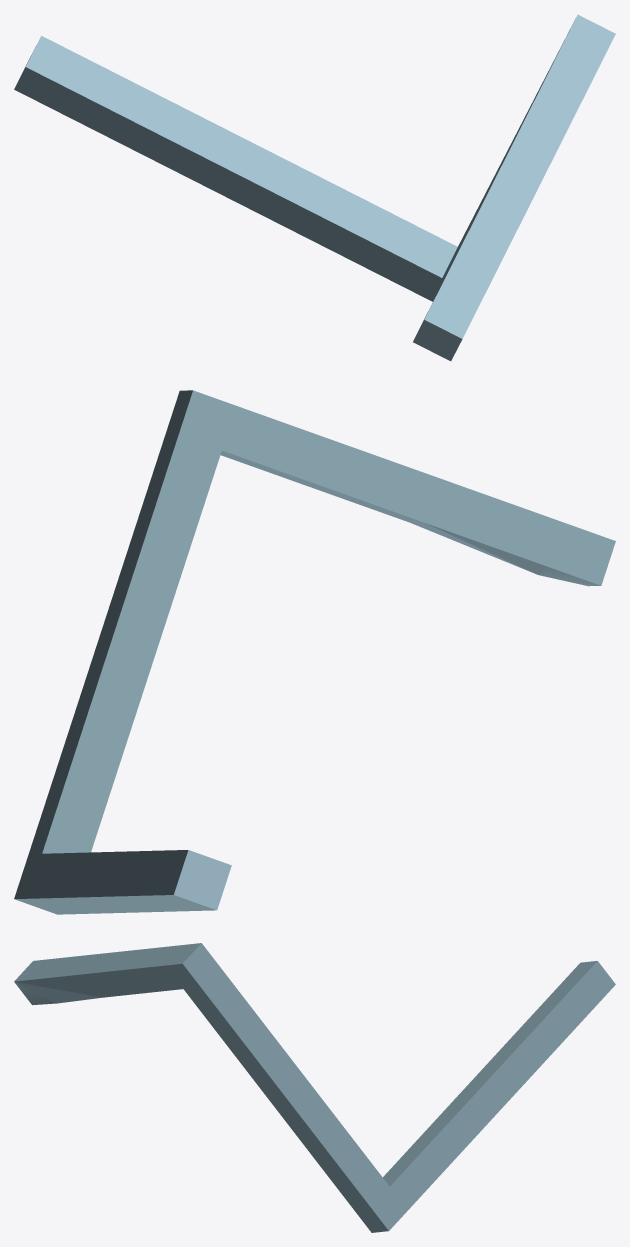
File: triangle.gltf
3 renders of one model, top to bottom at view 1: azimuth 30°, elevation 25°; view 2: azimuth 150°, elevation 25°; view 3: azimuth 270°, elevation 25°, orthographic. The views are drawn at different scales.
Parts seen in each view (by area): view 1: Box001; view 2: Box001; view 3: Box001.
Part boxes in pixels (x1=…): Box001: x1=14, y1=14, x2=615, y2=361; Box001: x1=14, y1=390, x2=615, y2=914; Box001: x1=14, y1=943, x2=615, y2=1232.
Size of the model in its own units: 4.13 by 4.72 by 8.96.
